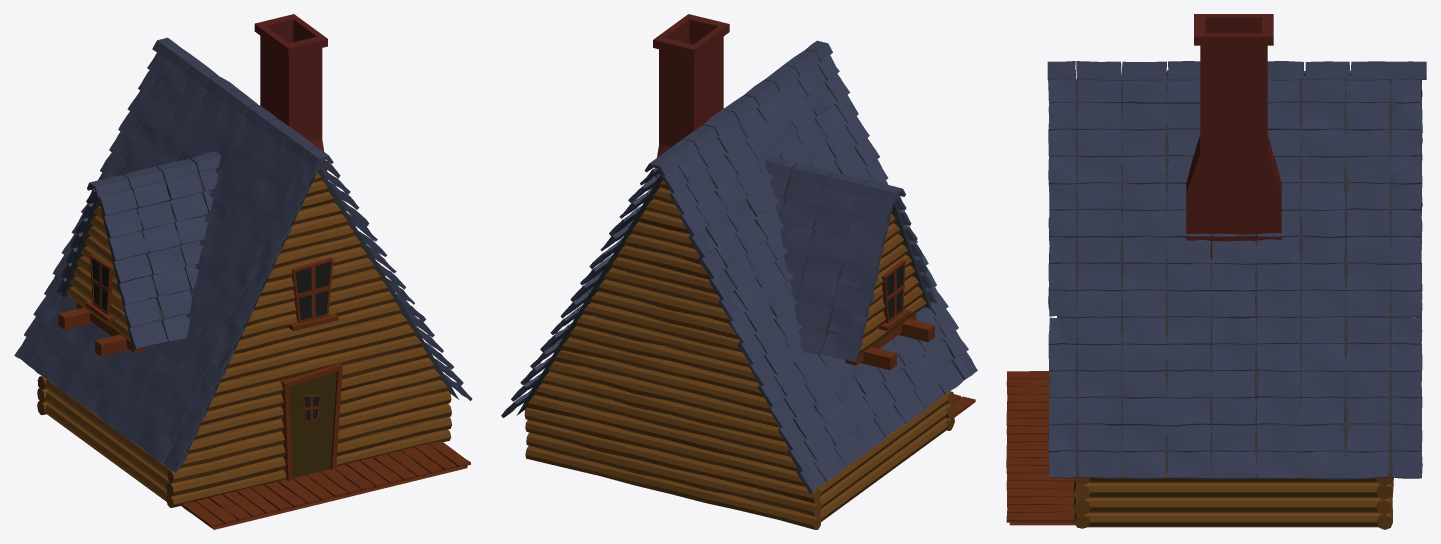
The model's file is House.fbx.
The picture shows the model from 3 angles, left to right: view 1: azimuth 30°, elevation 25°; view 2: azimuth 150°, elevation 25°; view 3: azimuth 270°, elevation 25°; orthographic projection. The views are drawn at different scales.
Parts seen in each view (by area): view 1: base; view 2: base; view 3: base.
Part boxes in pixels (x1,y1,x2,y2): base: (14,14,472,529); base: (501,14,977,529); base: (1006,14,1426,529).
Size of the model in its own units: 166 by 194 by 163.
